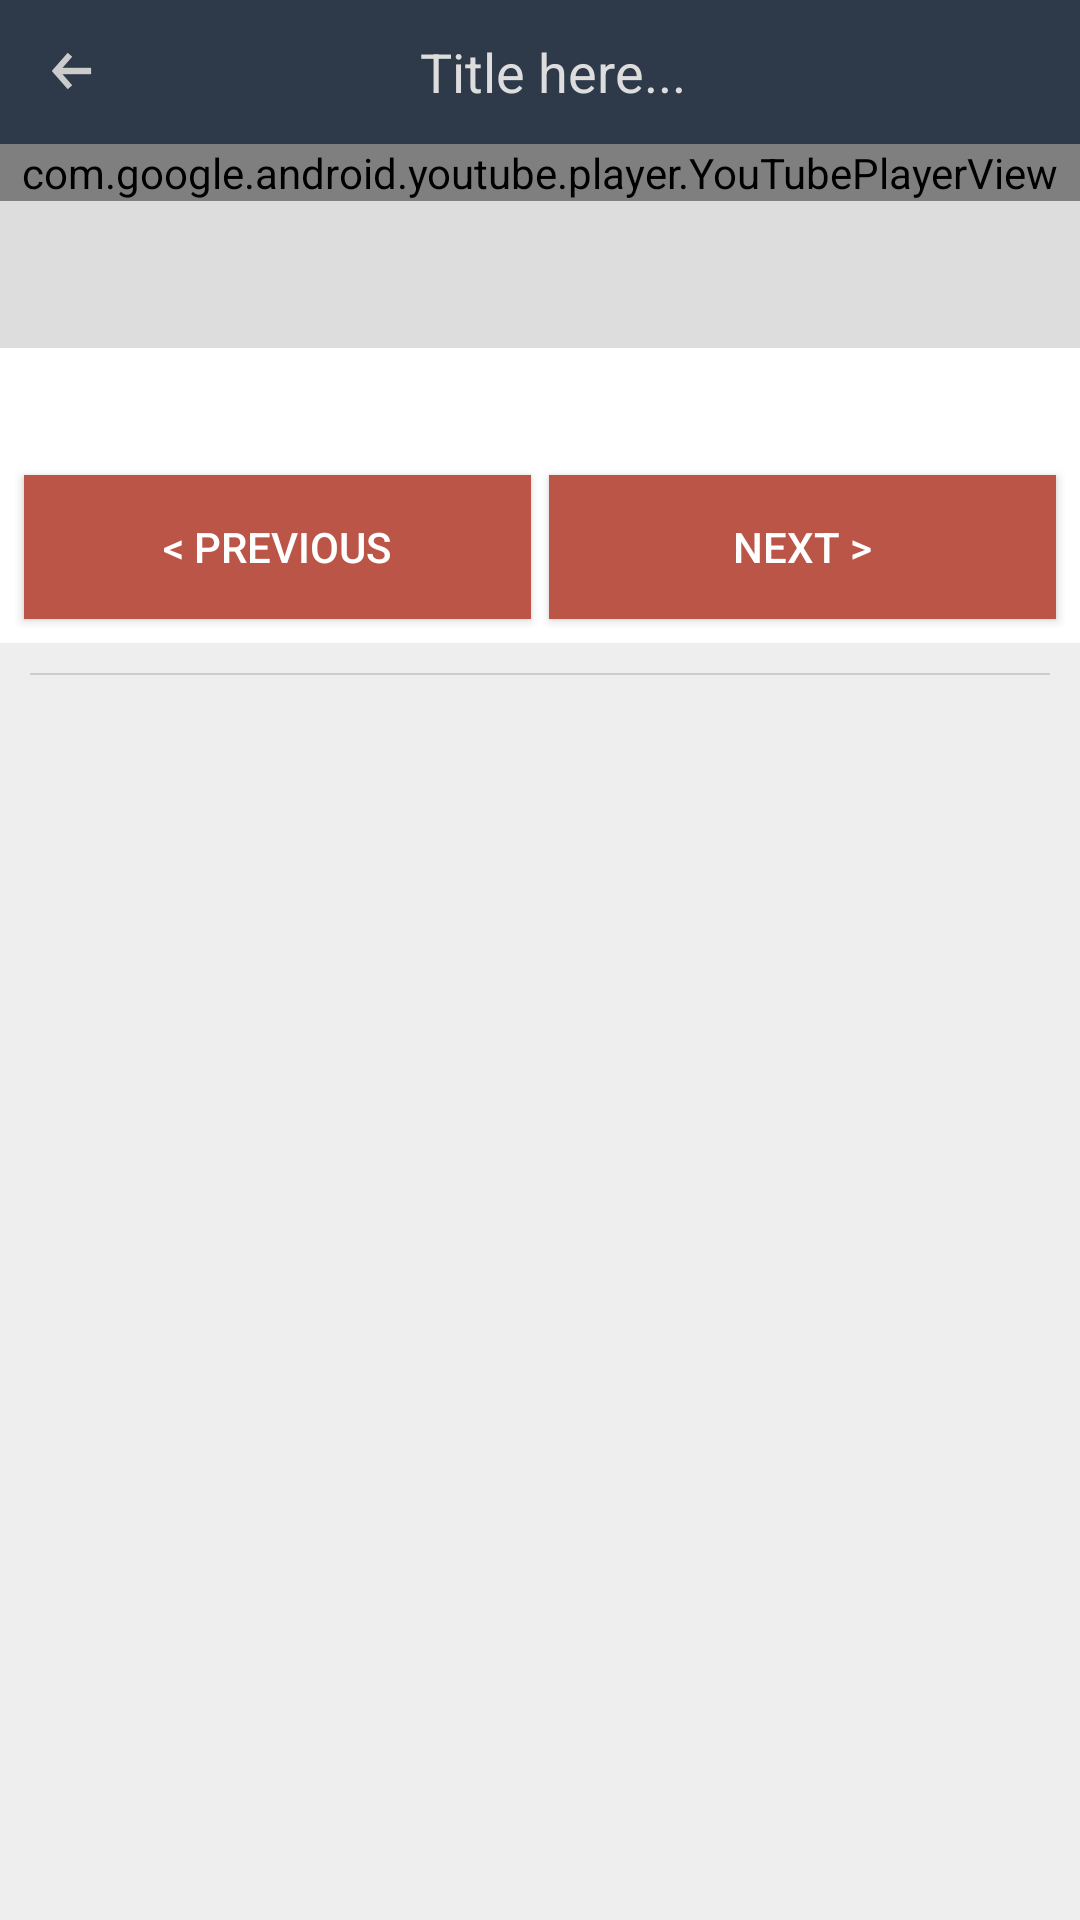

Named icons in this screenshot (1080px×1920px) and their bounding boxes, (x1, y1, x2, y2):
back arrow: (52, 53, 91, 89)
